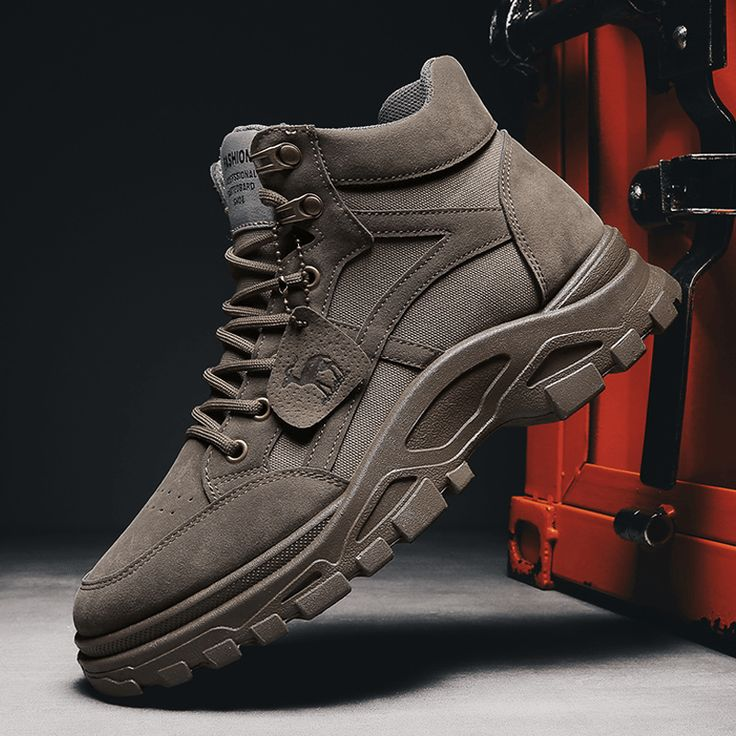gamuza: (73, 54, 605, 643)
